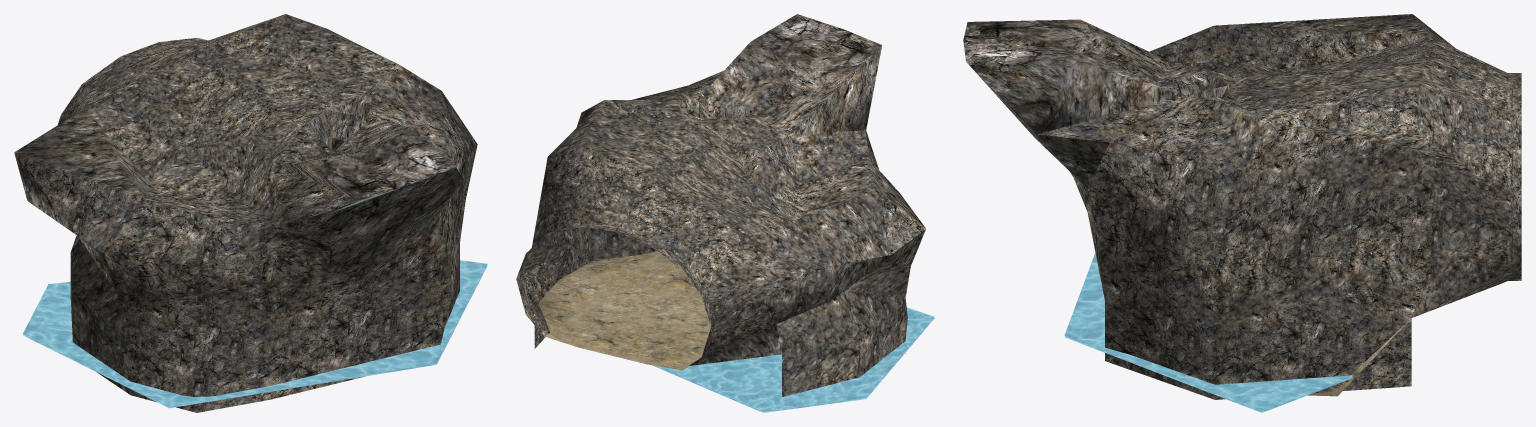
Rendered from pir_m_are_cav_deadend200_water.fbx.
The picture shows the model from 3 angles, left to right: view 1: azimuth 30°, elevation 25°; view 2: azimuth 150°, elevation 25°; view 3: azimuth 270°, elevation 25°; orthographic projection. The views are drawn at different scales.
Parts seen in each view (by area): view 1: standardDeadEnd_wall, water, water1; view 2: standardDeadEnd_wall, standardDeadEnd_floor, water, water1; view 3: standardDeadEnd_wall, water, water1.
Boxes of the visible parts, bbox=[...] form: standardDeadEnd_wall: bbox=[14, 14, 477, 412]; water: bbox=[23, 260, 487, 406]; water1: bbox=[23, 265, 487, 408]; standardDeadEnd_wall: bbox=[516, 14, 925, 396]; standardDeadEnd_floor: bbox=[538, 251, 710, 370]; water: bbox=[657, 307, 934, 411]; water1: bbox=[652, 318, 934, 412]; standardDeadEnd_wall: bbox=[963, 14, 1521, 399]; water: bbox=[1064, 253, 1354, 411]; water1: bbox=[1064, 336, 1354, 412].
Bounding box in the file's own units: 19370 × 11398 × 20102.
Materials: 4 (4 with a texture image).
